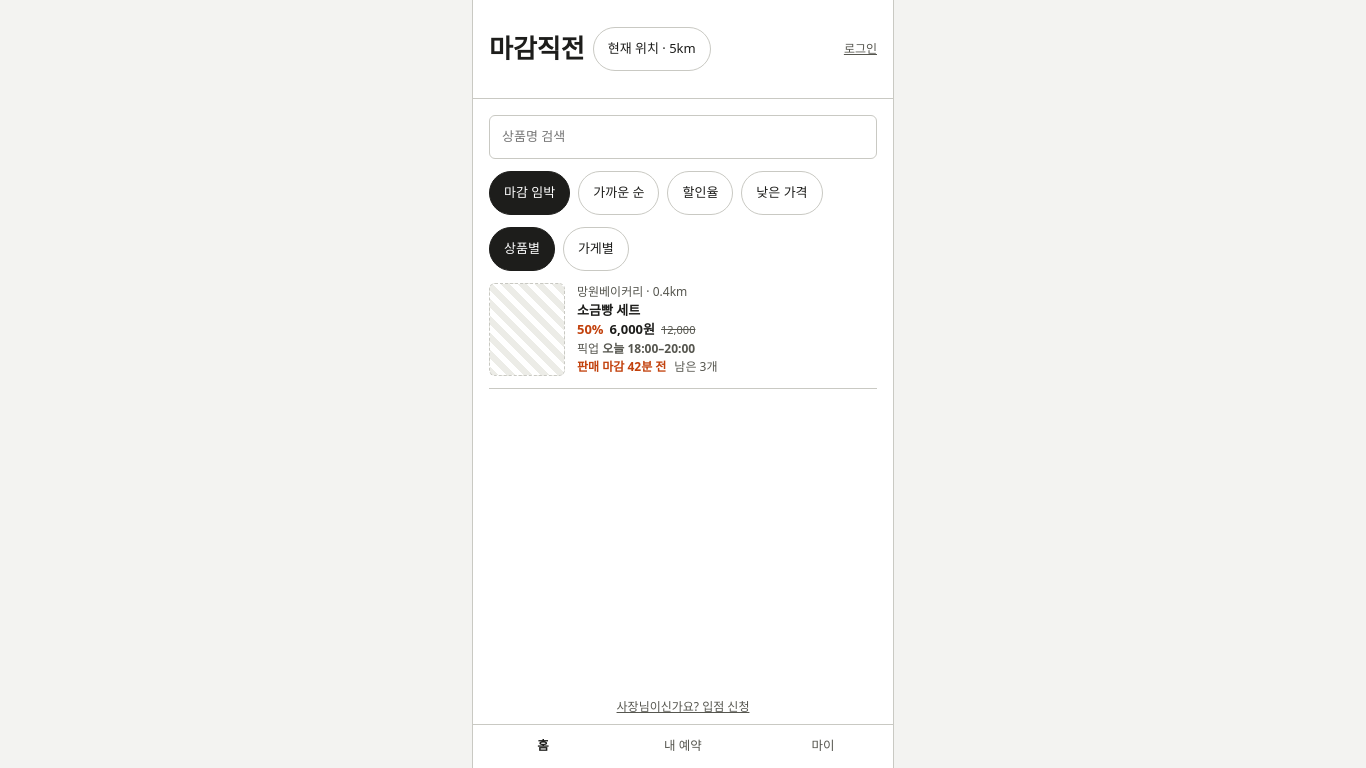
Scenario: HomePage 위치 지도(C1a) › ?radius=5면 level 8
Check: the link "소금빵 세트" is shown, box [489,283,877,389]
Click the button "현재 위치 · 5km". click: (652, 49)
box: [593,27,711,71]
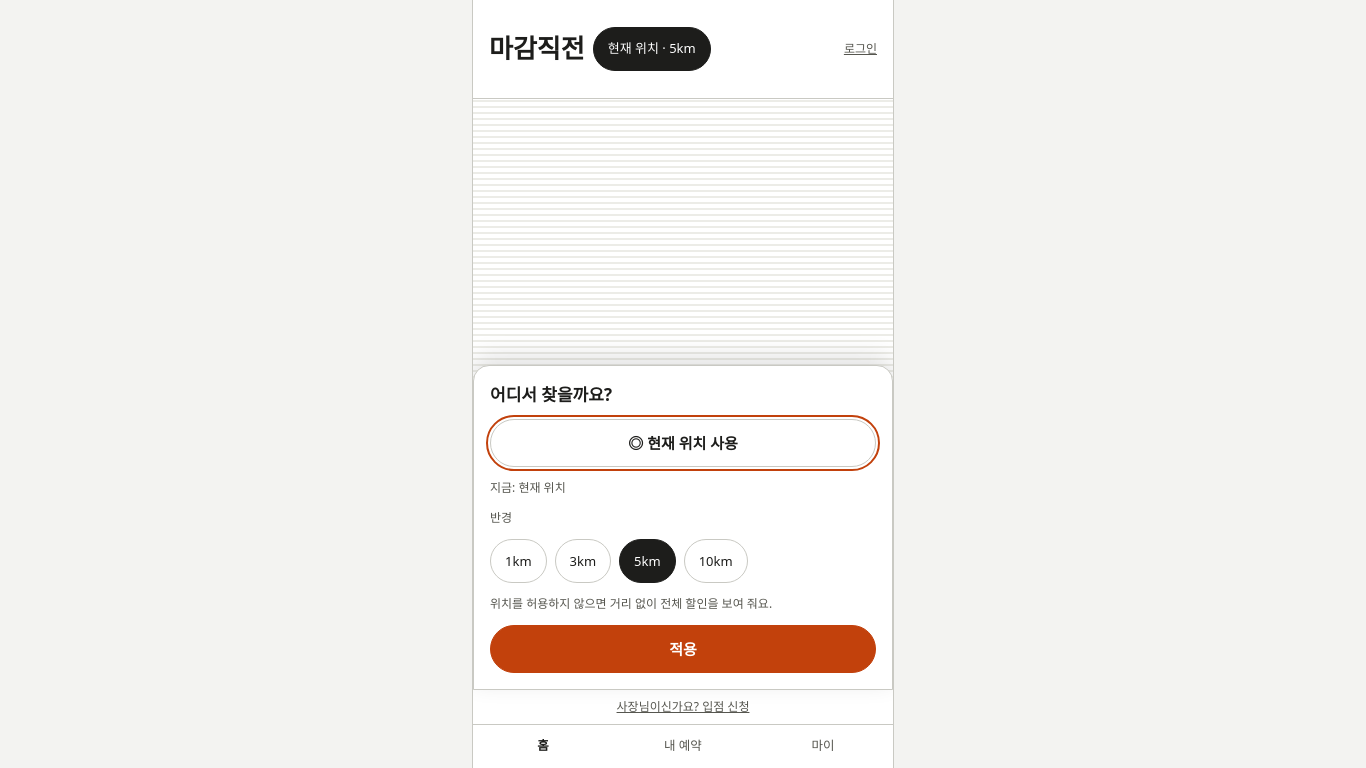
Check: the picture named "지도" is shown, box [473,99,893,365]
